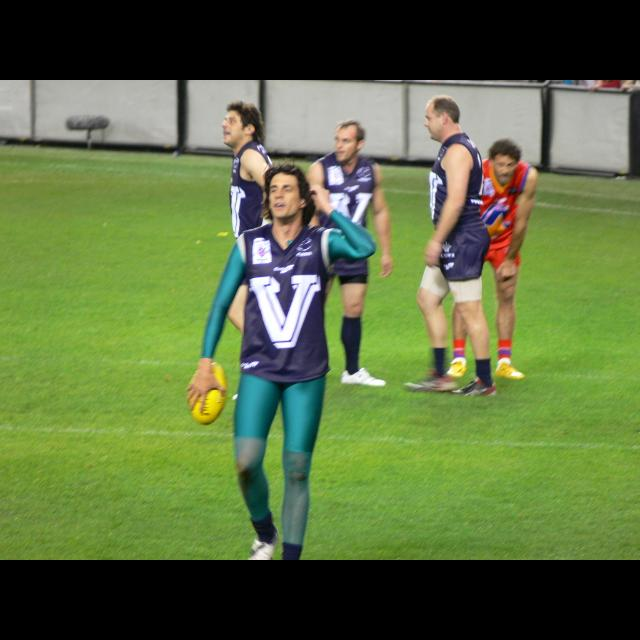Football: (188, 361, 226, 423)
